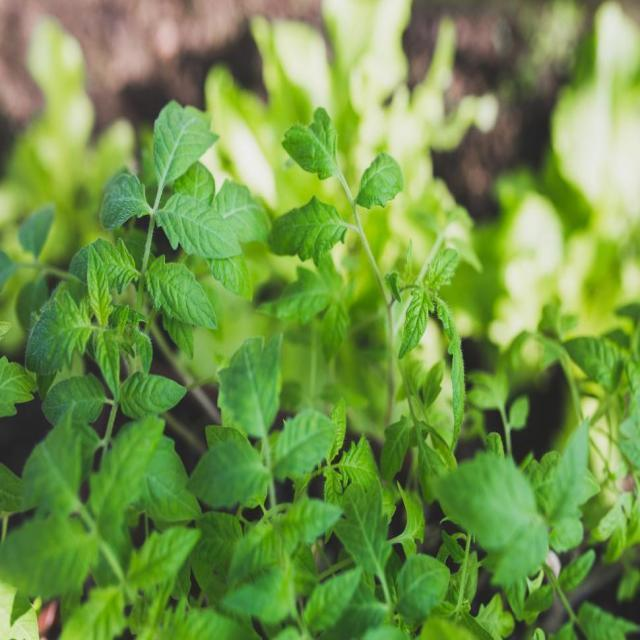Healthy Leaf: (150, 86, 212, 188), (266, 191, 350, 262), (140, 262, 224, 332), (154, 199, 248, 259), (279, 98, 343, 176), (38, 374, 108, 422), (80, 240, 116, 330), (120, 371, 188, 417), (398, 280, 432, 362), (356, 153, 401, 208), (425, 240, 460, 294)
